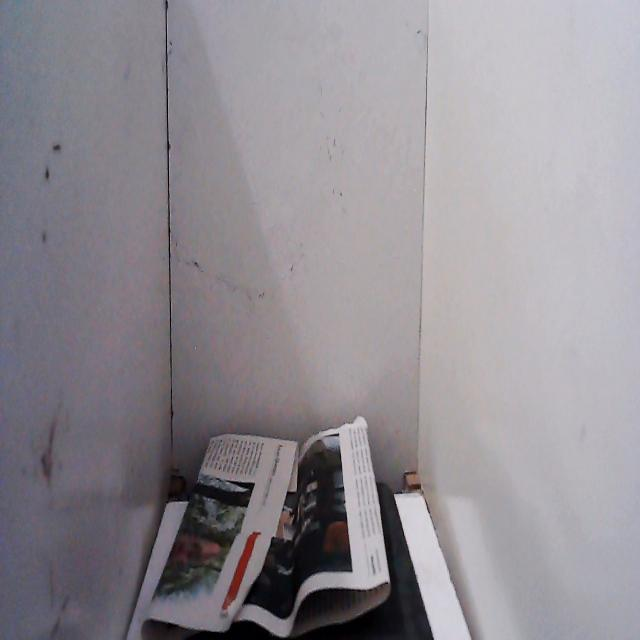papel: (115, 408, 395, 640)
